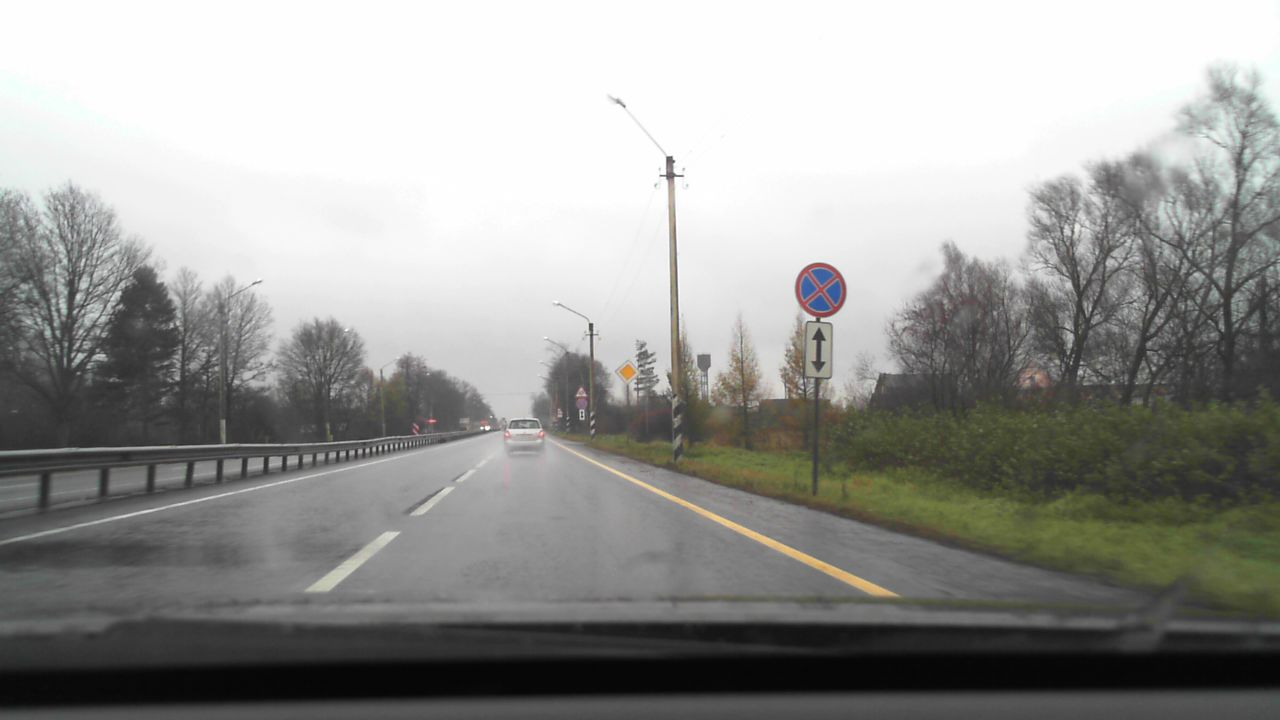No Parking: (794, 262, 847, 318)
